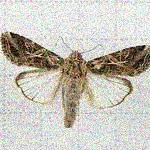Spodoptera litura: (1, 31, 149, 128)
